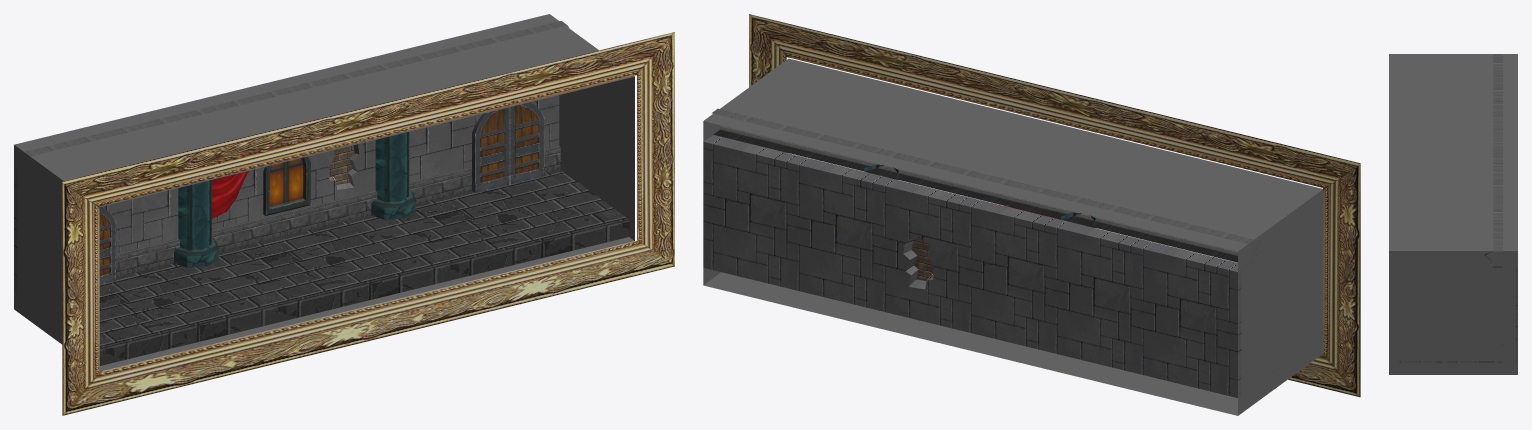
The model's file is Second_Room.FBX.
The picture shows the model from 3 angles, left to right: view 1: azimuth 30°, elevation 25°; view 2: azimuth 150°, elevation 25°; view 3: azimuth 270°, elevation 25°; orthographic projection. The views are drawn at different scales.
Parts seen in each view (by area): view 1: Second_Room, polySurface358, polySurface381, polySurface350, polySurface388, polySurface387, Deur_links_03, Deur_recht_03, polySurface383, polySurface435, polySurface433, Deur_recht_02 (+2 smaller); view 2: polySurface350, polySurface358, Second_Room, polySurface387, Plane002; view 3: polySurface358, polySurface387, polySurface350, polySurface381.
Boxes of the visible parts, x1,y1,x2,y2 form: Second_Room: [62, 32, 674, 415]; polySurface358: [14, 14, 634, 371]; polySurface381: [99, 169, 629, 365]; polySurface350: [14, 95, 559, 293]; polySurface388: [116, 145, 560, 277]; polySurface387: [24, 21, 569, 171]; Deur_links_03: [472, 107, 509, 192]; Deur_recht_03: [510, 102, 544, 184]; polySurface383: [263, 156, 310, 215]; polySurface435: [375, 132, 409, 201]; polySurface433: [178, 180, 211, 249]; Deur_recht_02: [99, 206, 116, 284]; polySurface350: [703, 135, 1241, 397]; polySurface358: [703, 58, 1323, 415]; Second_Room: [749, 14, 1360, 397]; polySurface387: [712, 108, 1259, 262]; Plane002: [912, 237, 933, 280]; polySurface358: [1389, 54, 1517, 374]; polySurface387: [1484, 54, 1502, 267]; polySurface350: [1515, 266, 1517, 361]; polySurface381: [1398, 361, 1502, 362].
Bounding box in the file's own units: 35.57 × 13.01 × 8.6.
